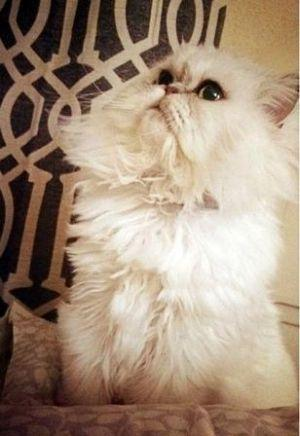persian: (80, 28, 300, 219)
